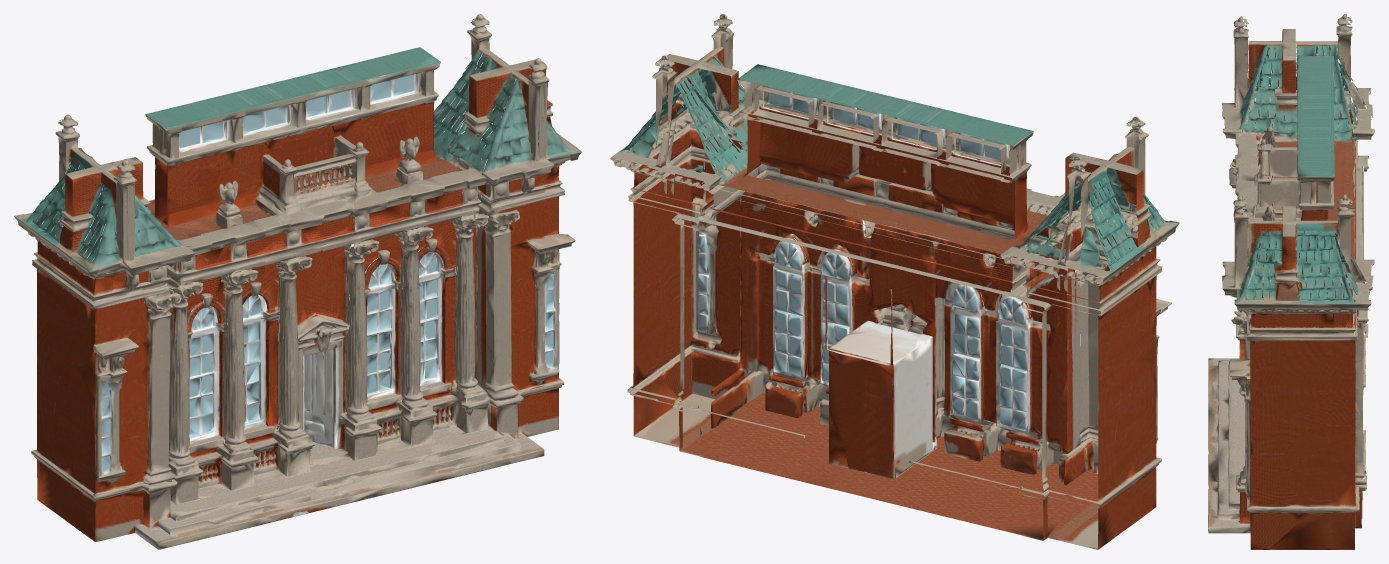
The model's file is bank_bay.glb.
3 renders of one model, left to right at view 1: azimuth 30°, elevation 25°; view 2: azimuth 150°, elevation 25°; view 3: azimuth 270°, elevation 25°, orthographic. The views are drawn at different scales.
Bounding box in the file's own units: 1.9 × 1.41 × 0.6211.
Materials: 1 (1 with a texture image).
